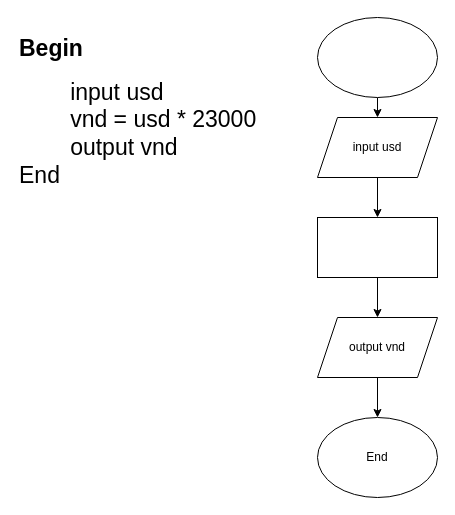
This 455x515 diagram has some shape labels left out. Here are the shapes that lost their labels. From the top down, the box of each, then its label:
(316, 16, 438, 98): Begin
(316, 216, 438, 278): vnd = usd * 23000
